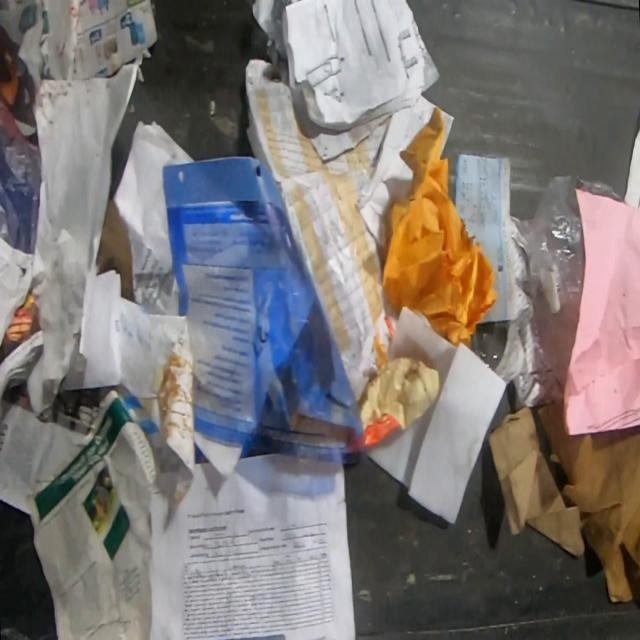cardboard: (536, 400, 640, 604), (486, 404, 587, 562), (39, 0, 159, 83), (357, 354, 442, 448), (97, 196, 137, 304), (4, 291, 41, 352)
rigid_plastic: (469, 318, 518, 382)
soft_plastic: (162, 155, 369, 467), (509, 173, 626, 392), (0, 130, 42, 257)
